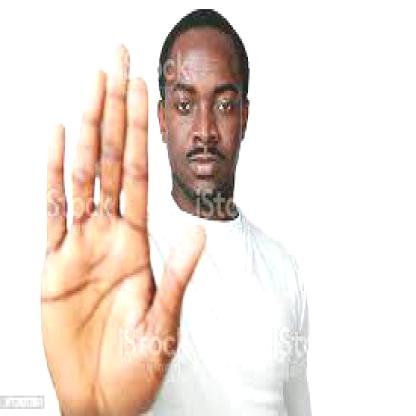Stop: (32, 46, 198, 407)
